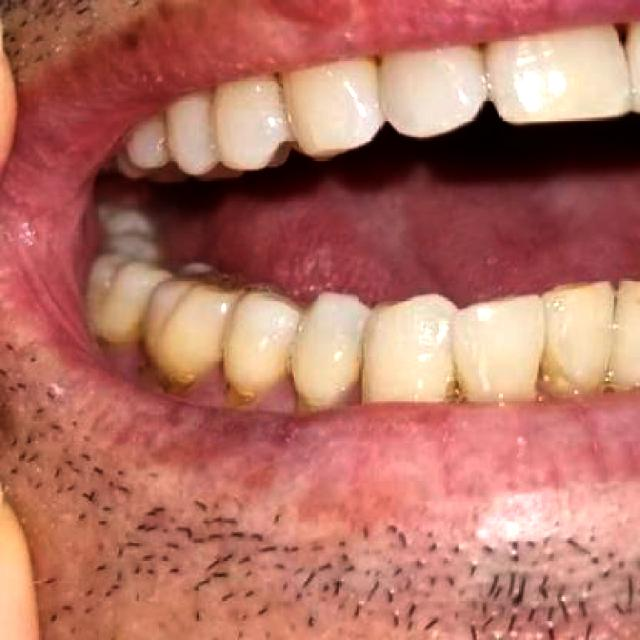Plaque: (187, 371, 221, 409)
